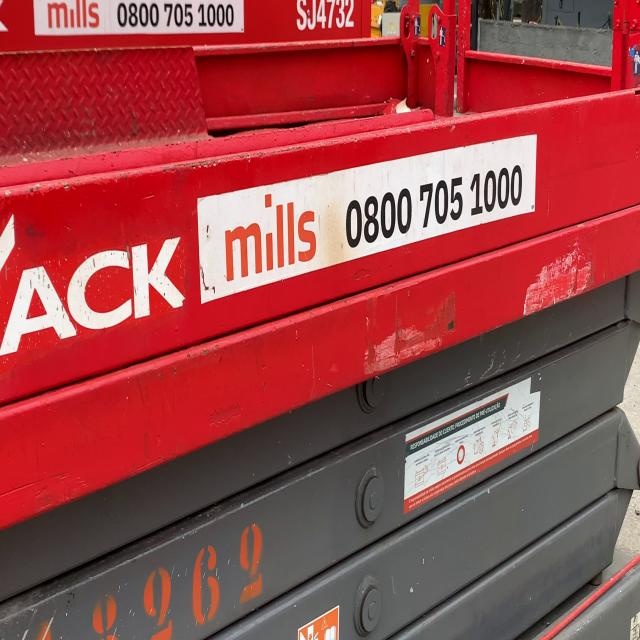Adesivo Longo: (194, 130, 539, 308)
